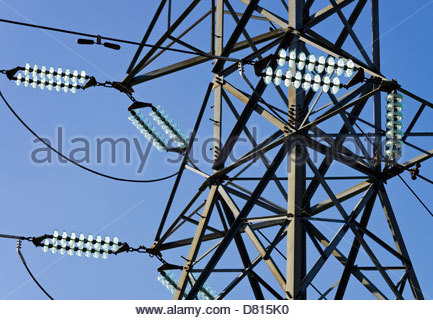isolator: (262, 48, 353, 93), (128, 104, 188, 152), (41, 230, 119, 259), (14, 63, 86, 94), (157, 270, 219, 299), (383, 92, 404, 160)
